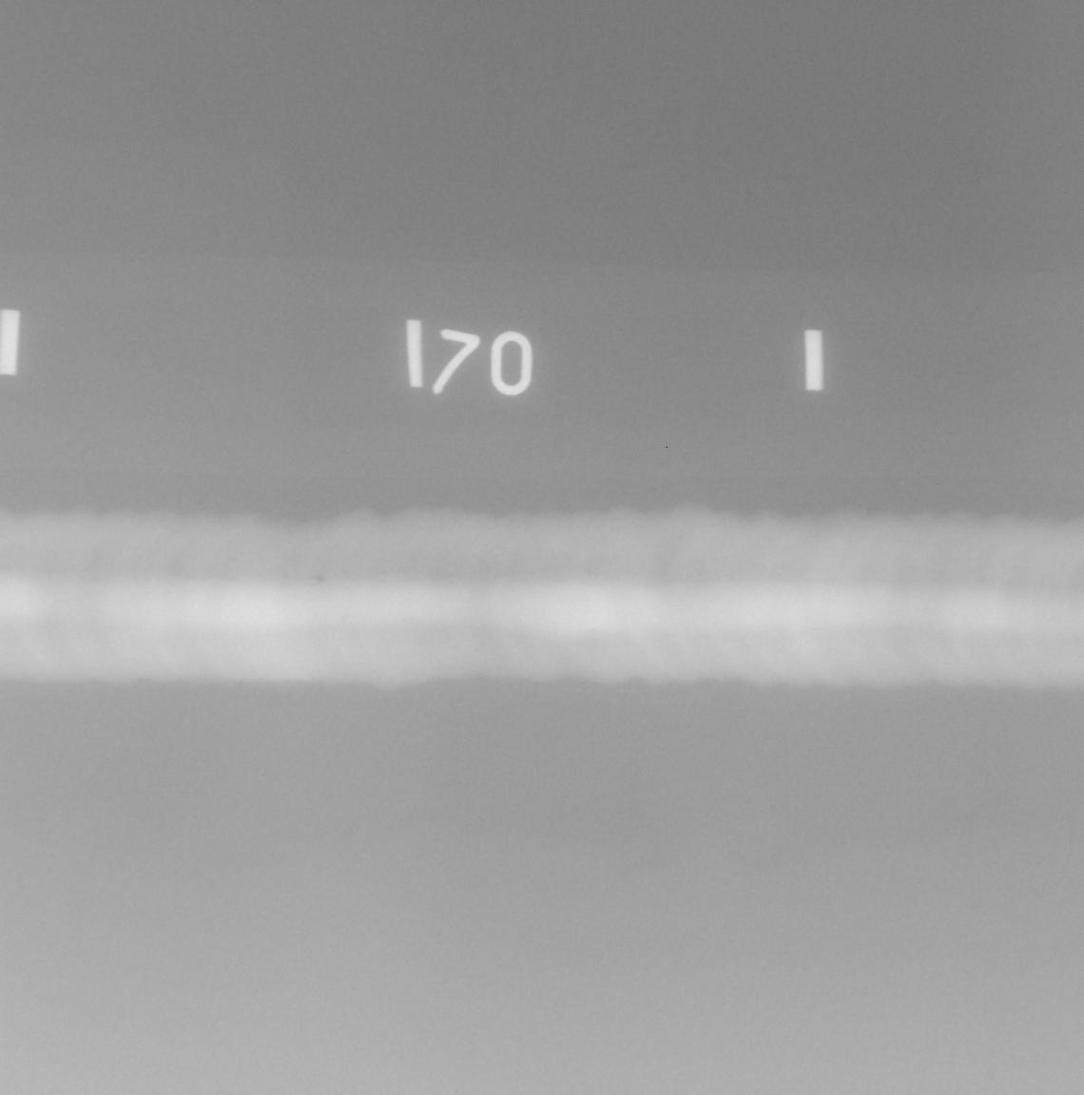Pore/Porosity: (315, 576, 324, 583)
